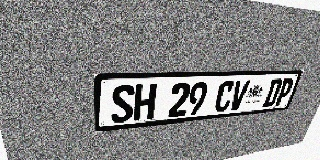2: (168, 82, 191, 117)
9: (186, 82, 209, 116)
C: (213, 80, 236, 113)
D: (262, 79, 284, 107)
H: (133, 84, 157, 121)
P: (274, 78, 295, 106)
S: (111, 84, 135, 124)
V: (228, 80, 250, 111)
